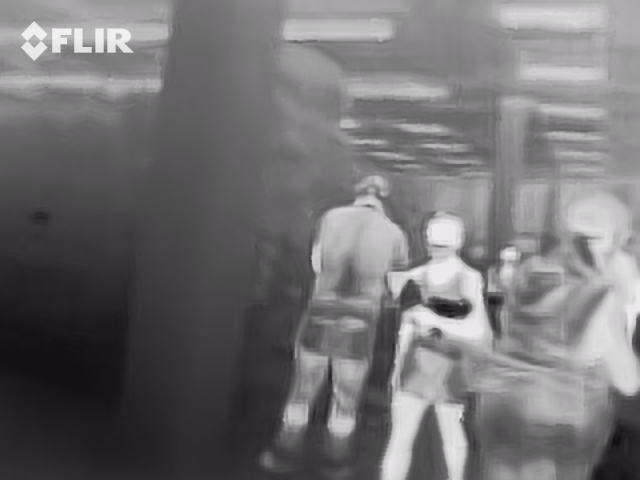head: (424, 211, 464, 262)
